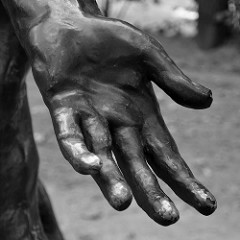palm: (51, 35, 161, 134)
